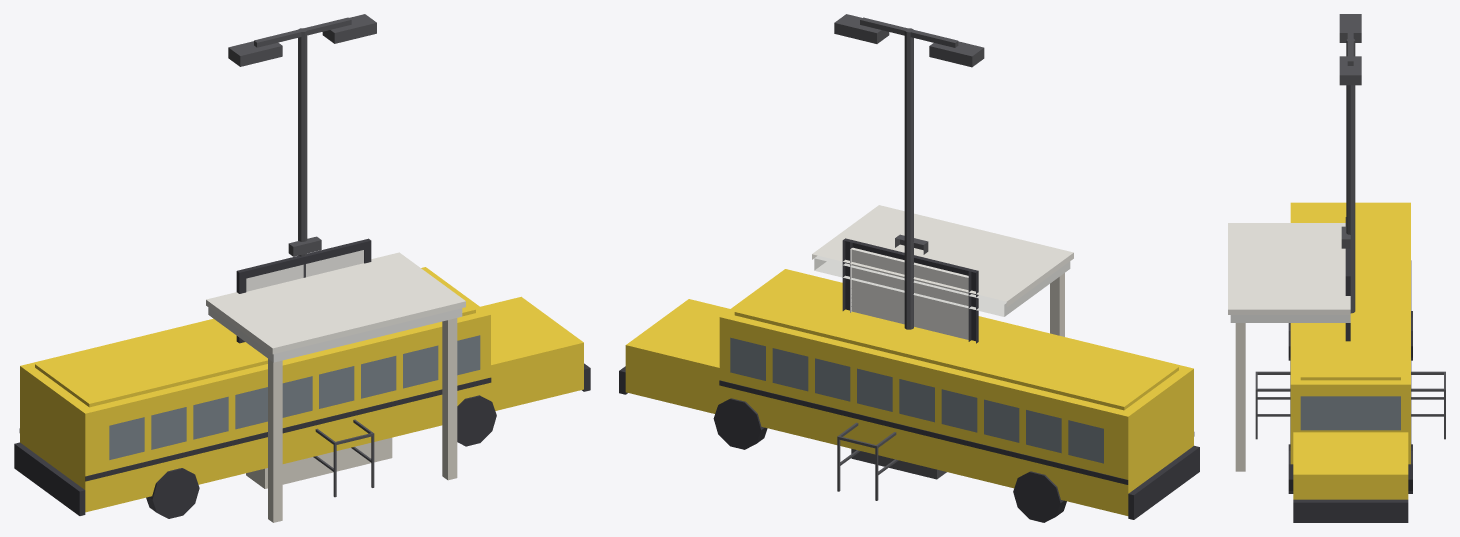
The model's file is places-kit.glb.
The picture shows the model from 3 angles, left to right: view 1: azimuth 30°, elevation 25°; view 2: azimuth 150°, elevation 25°; view 3: azimuth 270°, elevation 25°; orthographic projection. The views are drawn at different scales.
Parts seen in each view (by area): view 1: school-bus, entry-canopy, dock-door, lot-light, cart-corral; view 2: school-bus, entry-canopy, dock-door, lot-light, cart-corral, rtu; view 3: school-bus, entry-canopy, lot-light, cart-corral, dock-door.
Part boxes in pixels (box(x1,y1,x2,y2)): school-bus: box(14, 267, 590, 518); entry-canopy: box(206, 252, 465, 522); dock-door: box(236, 236, 392, 488); lot-light: box(228, 14, 376, 277); cart-corral: box(313, 419, 374, 497); school-bus: box(619, 269, 1199, 522); entry-canopy: box(812, 205, 1073, 336); dock-door: box(842, 234, 978, 343); lot-light: box(834, 14, 984, 329); cart-corral: box(837, 422, 898, 500); rtu: box(851, 448, 946, 479); school-bus: box(1288, 202, 1412, 522); entry-canopy: box(1228, 223, 1350, 471); lot-light: box(1339, 14, 1361, 313); cart-corral: box(1255, 371, 1445, 439); dock-door: box(1341, 217, 1350, 341).
Size of the model in its own units: 10.86 by 8.6 by 4.35.
